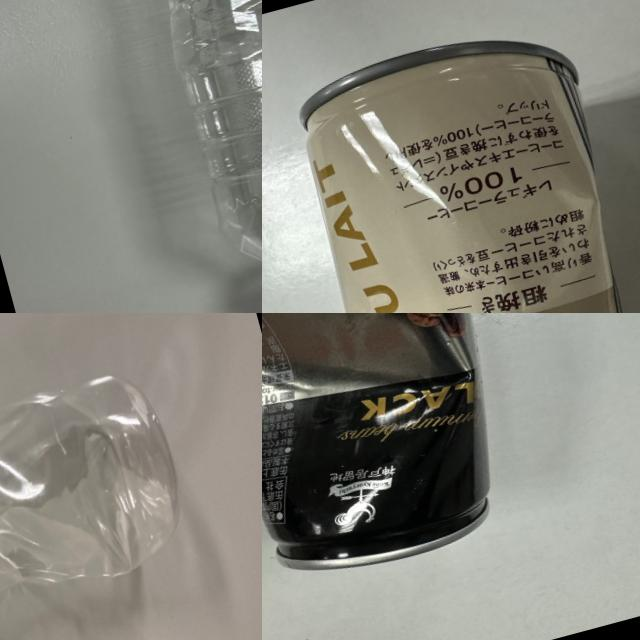Can: (285, 11, 640, 313), (262, 313, 531, 596)
Transparent Plastic Bottle: (0, 359, 194, 640), (117, 0, 262, 313)
